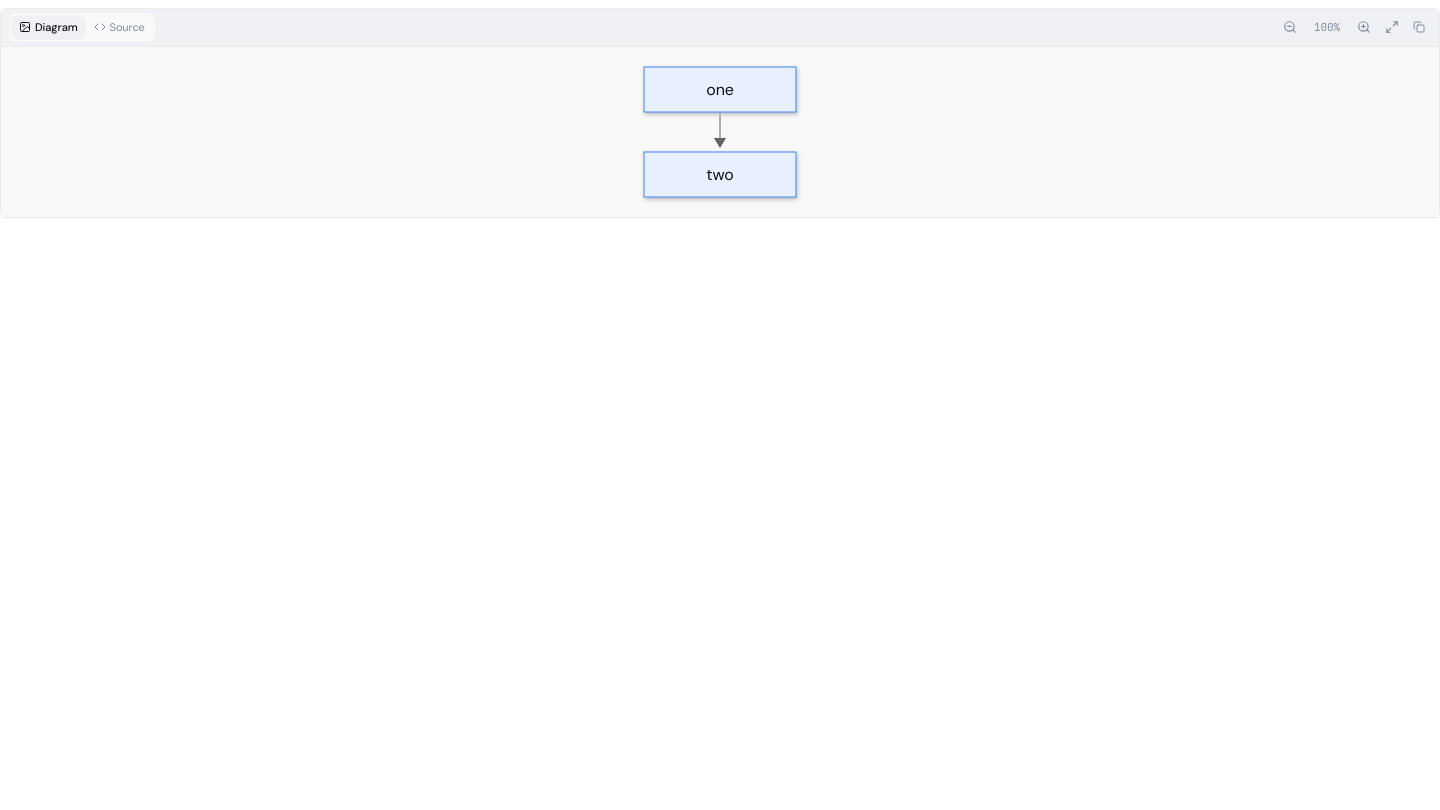
Scenario: MermaidBlock › keeps the zoom across a theme re-render of the same chart
Click the button named "View fullscreen" at (1392, 27), box left=1379, top=14, right=1405, bottom=40
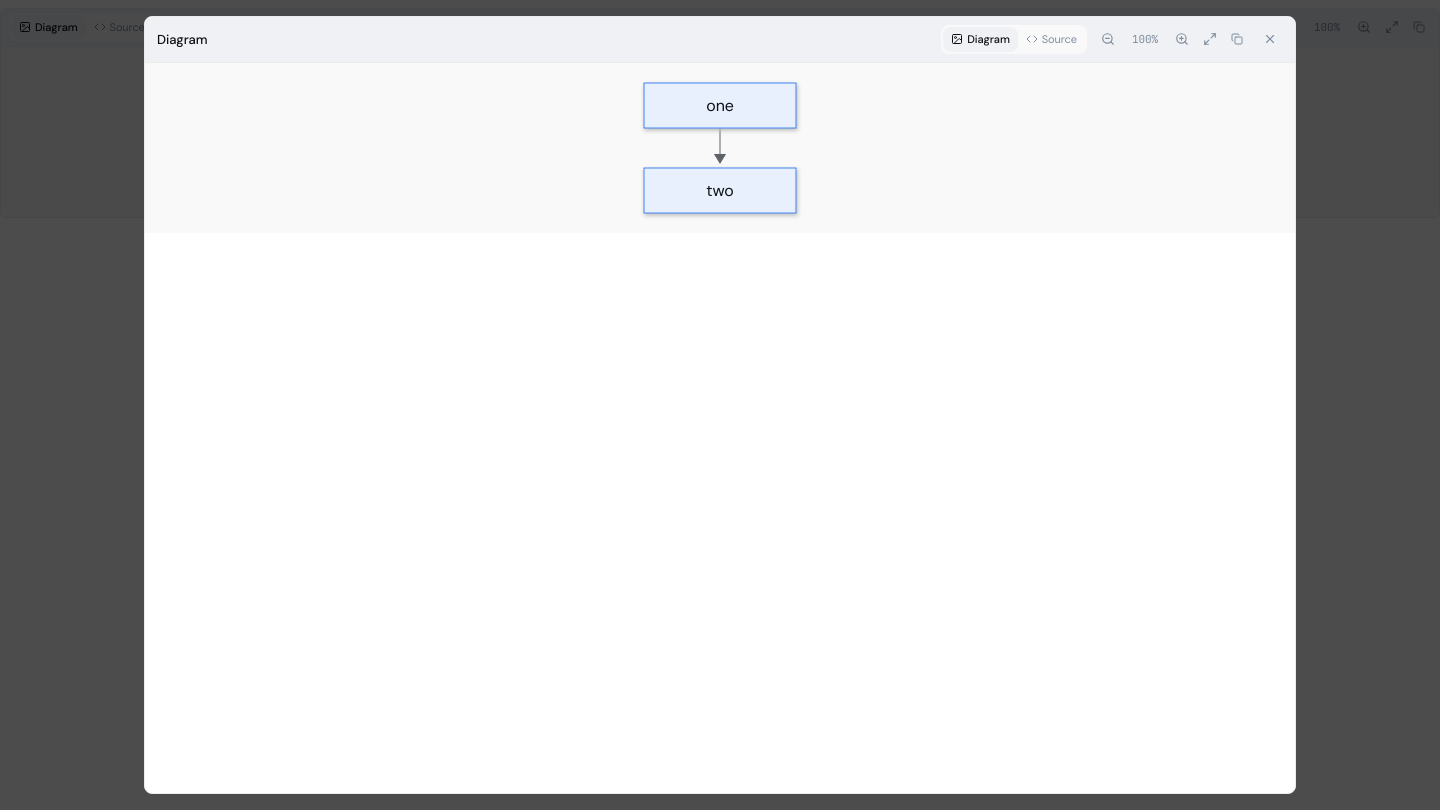
Click the button named "Zoom in" at (1182, 39), box left=1169, top=26, right=1195, bottom=52
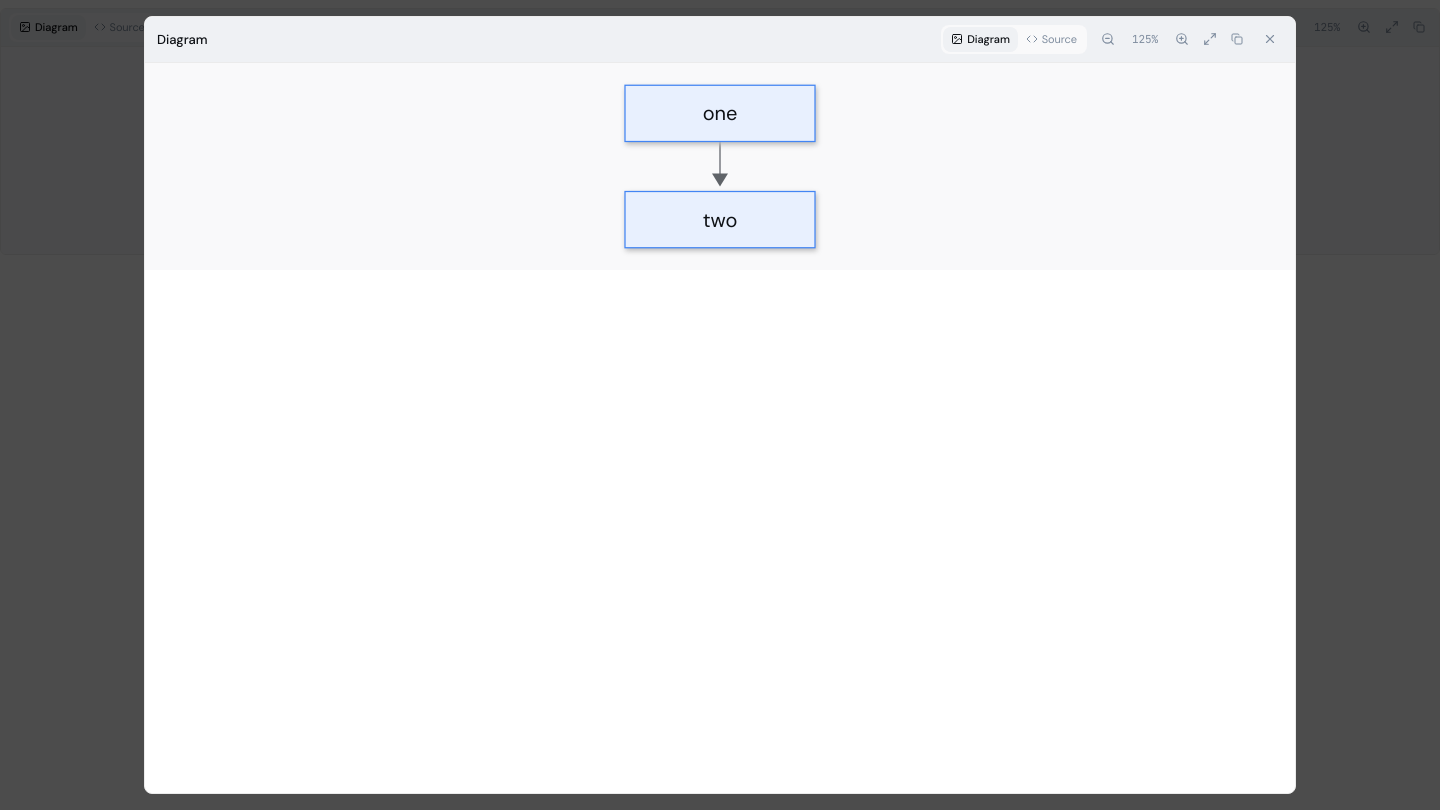
Expected: the button "125%" is shown, left=1123, top=27, right=1167, bottom=52
